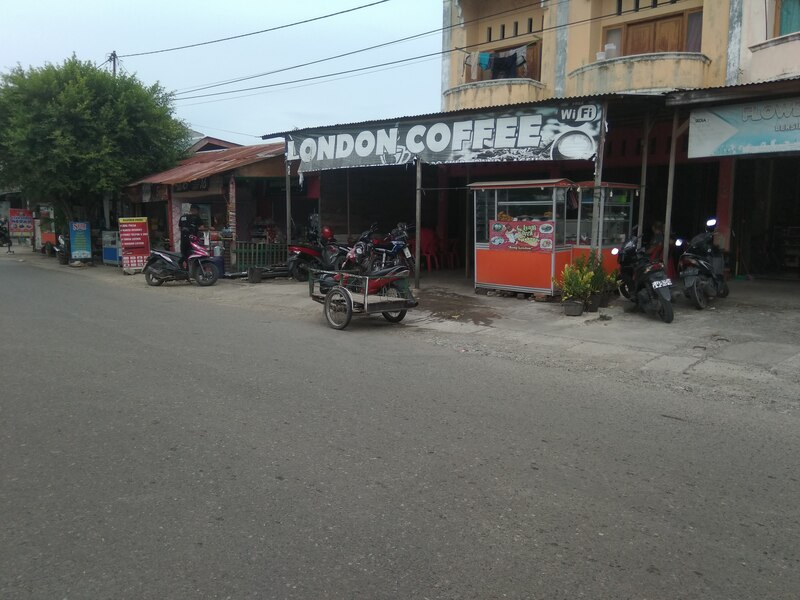becak barang: (308, 240, 424, 331)
